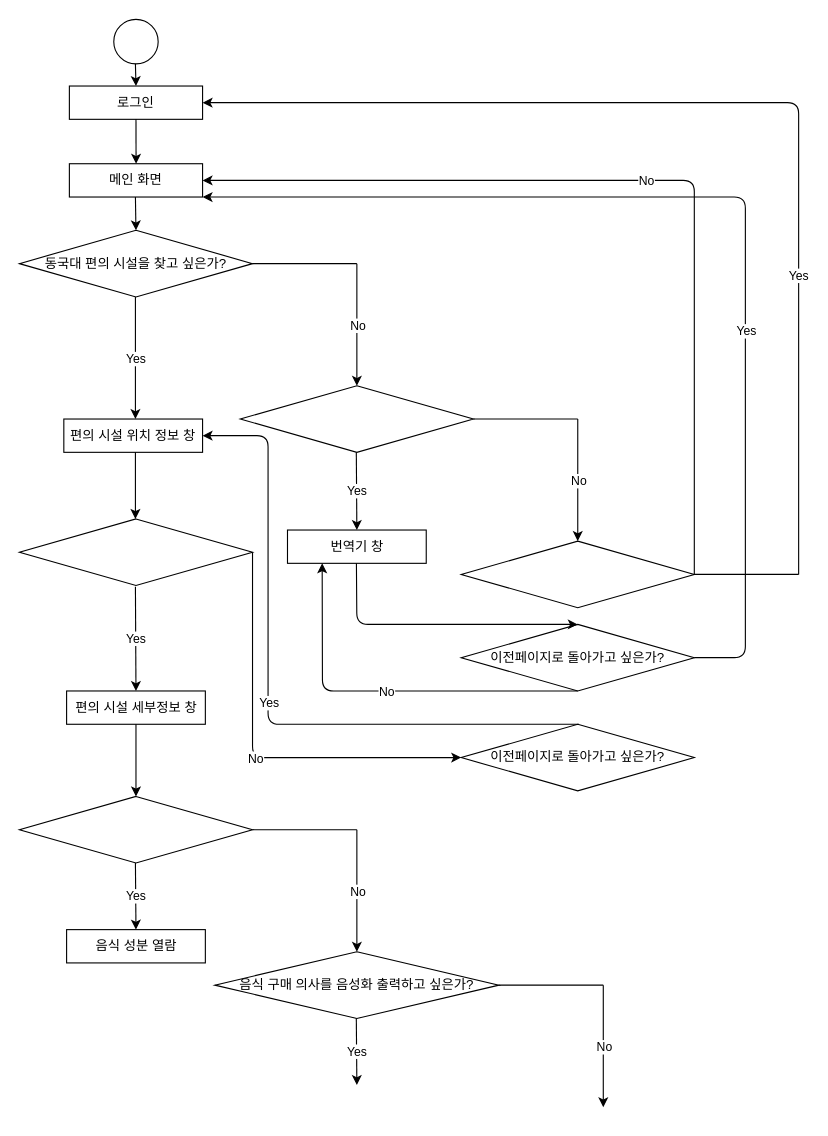
Image size: 828x1136. Some labels were removed from this diagram. The box of each missing label's shape, as (x1, y1, x2, y2) in pixels:
USER: (113, 18, 158, 64)
로그아웃을 하고 싶은가?: (460, 540, 694, 608)
언어 번역기를 사용하고 싶은가?: (239, 385, 473, 452)
판매 음식의 성분을 알고 싶은가?: (18, 795, 253, 863)
편의 시설 세부정보를 얻고 싶은가?: (18, 518, 253, 586)
